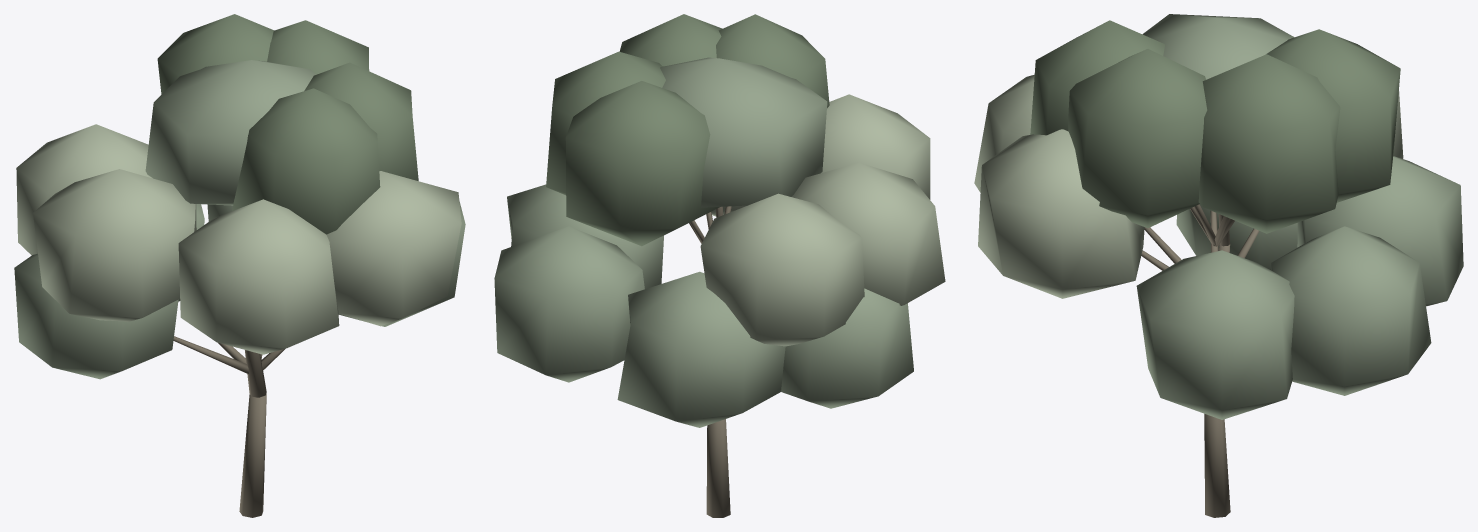
File: SM_MPR3_Tree_2_LOD2.fbx
The picture shows the model from 3 angles, left to right: view 1: azimuth 30°, elevation 25°; view 2: azimuth 150°, elevation 25°; view 3: azimuth 270°, elevation 25°; orthographic projection. The views are drawn at different scales.
Parts seen in each view (by area): view 1: SM_MPR3_Tree_2_LOD2; view 2: SM_MPR3_Tree_2_LOD2; view 3: SM_MPR3_Tree_2_LOD2.
Part boxes in pixels (x1,y1,x2,y2): SM_MPR3_Tree_2_LOD2: (14,14,465,517); SM_MPR3_Tree_2_LOD2: (494,14,945,517); SM_MPR3_Tree_2_LOD2: (974,14,1463,517).
Size of the model in its own units: 718 by 675 by 760.
